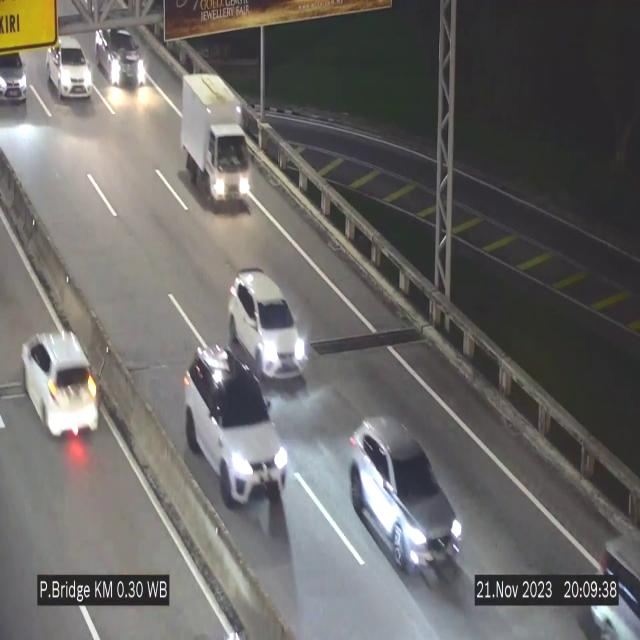Car: (346, 408, 462, 576), (184, 349, 288, 506), (20, 317, 104, 439), (228, 271, 308, 378), (583, 518, 640, 640), (44, 36, 94, 106), (98, 27, 148, 95), (0, 48, 29, 110)
Truck: (179, 70, 255, 215)
